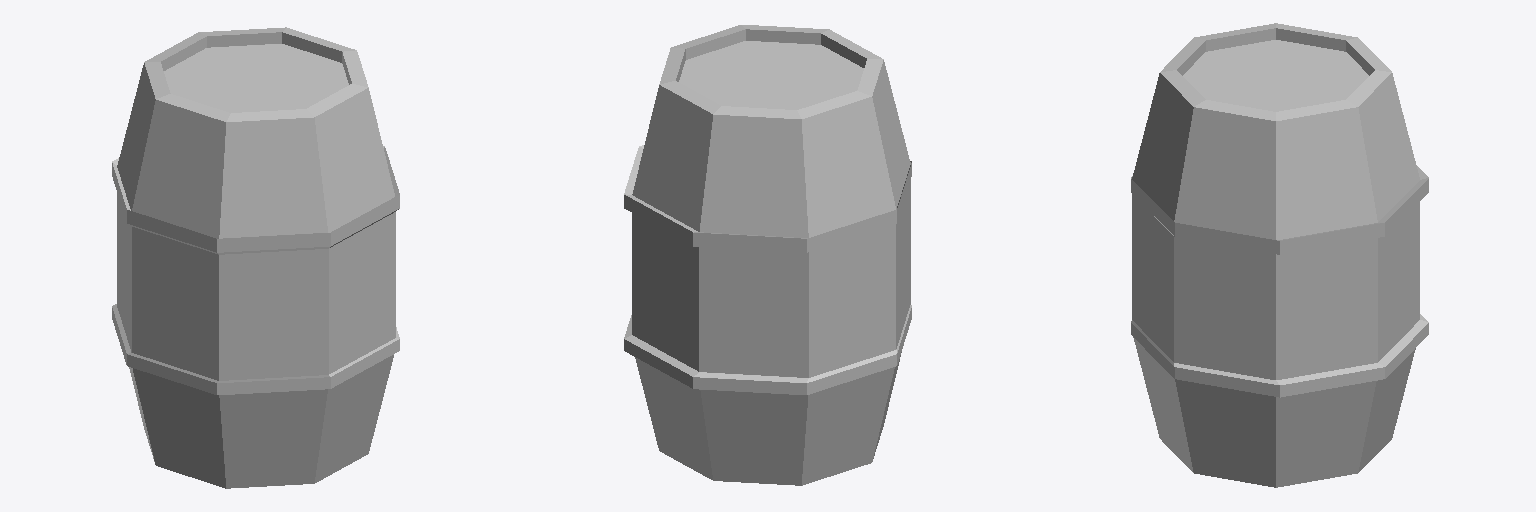
The model's file is barel.obj.
The picture shows the model from 3 angles: view 1: azimuth 30°, elevation 25°; view 2: azimuth 150°, elevation 25°; view 3: azimuth 270°, elevation 25°; orthographic projection.
Visible parts, largest first — view 1: Cylinder; view 2: Cylinder; view 3: Cylinder.
Part boxes in pixels (x1,y1,x2,y2): Cylinder: (112,27,399,488); Cylinder: (624,25,911,485); Cylinder: (1131,23,1428,487).
Bounding box in the file's own units: 2.57 × 3.52 × 2.57.